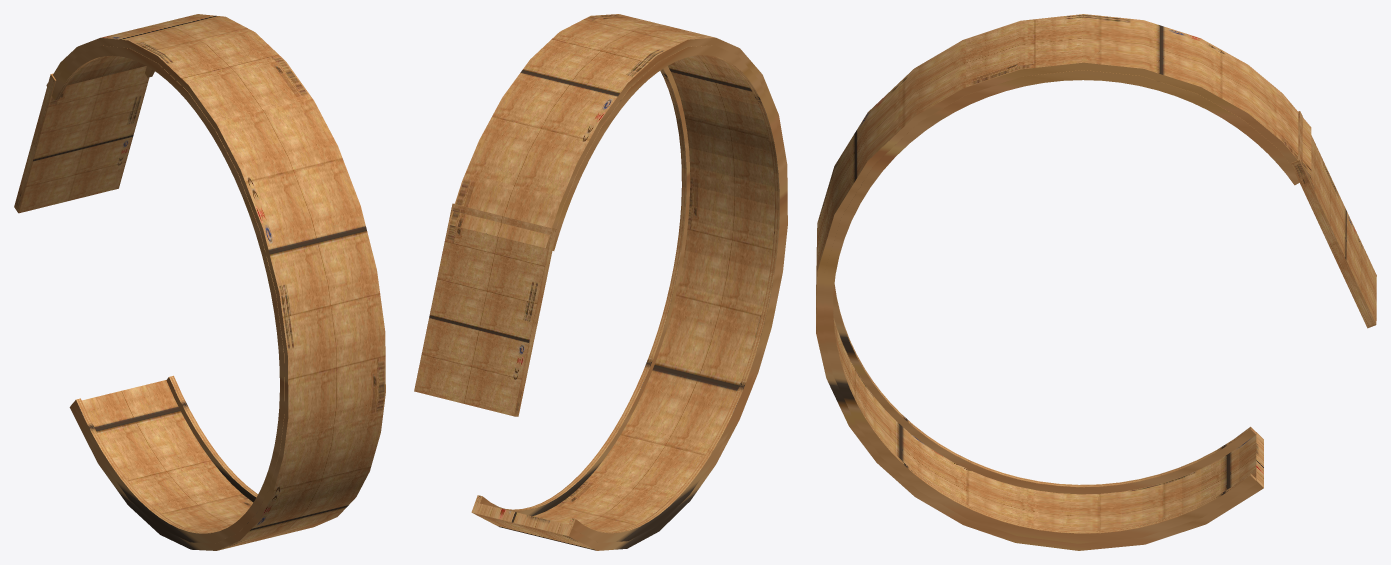
File: CircularProp.fbx
3 renders of one model, left to right at view 1: azimuth 30°, elevation 25°; view 2: azimuth 150°, elevation 25°; view 3: azimuth 270°, elevation 25°, orthographic. The views are drawn at different scales.
Parts seen in each view (by area): view 1: CircularProp, metalbox Cp, boarder, boarder (1); view 2: CircularProp, metalbox Cp, boarder, boarder (1); view 3: CircularProp, boarder (1), metalbox Cp, boarder.
Part boxes in pixels (x1,y1,x2,y2): CircularProp: [46, 14, 385, 550]; metalbox Cp: [14, 66, 149, 213]; boarder: [52, 45, 284, 543]; boarder (1): [145, 66, 257, 502]; CircularProp: [448, 14, 787, 550]; metalbox Cp: [414, 203, 556, 416]; boarder: [552, 45, 784, 542]; boarder (1): [475, 66, 690, 515]; CircularProp: [816, 14, 1311, 550]; boarder (1): [823, 70, 1299, 543]; metalbox Cp: [1291, 111, 1376, 328]; boarder: [833, 284, 1255, 494].
Size of the model in its own units: 16.1 by 72.56 by 75.5.
1 material, 1 textured.
